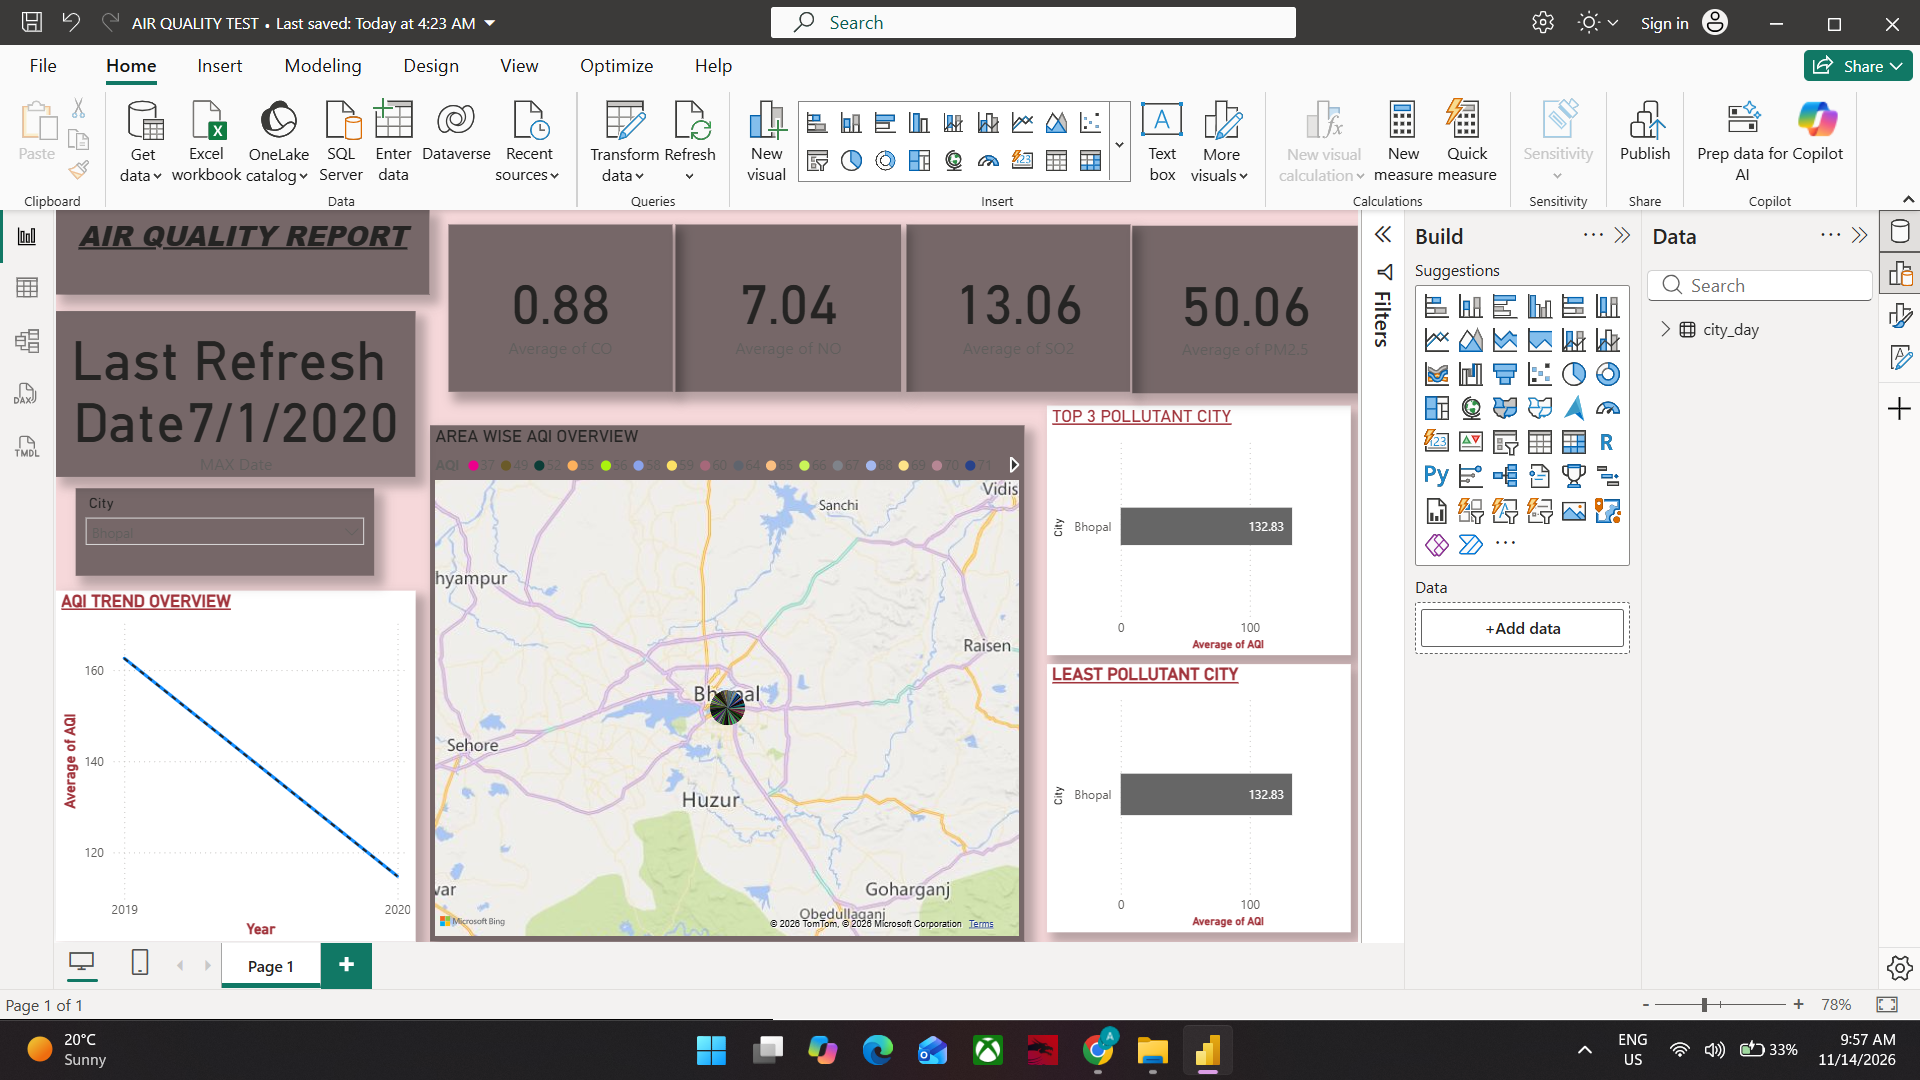

This screenshot's page, from the dashboard's own definition file:
{"tool":"powerbi","page":{"name":"Page 1","canvas":[1280,720],"ordinal":0},"visuals":[{"type":"lineChart","title":"AQI TREND OVERVIEW","fields":{"Category":["city_day.Date.Variation.Date Hierarchy.Year","city_day.Date.Variation.Date Hierarchy.Quarter","city_day.Date.Variation.Date Hierarchy.Month","city_day.Date.Variation.Date Hierarchy.Day"],"Y":["Avg(city_day.AQI)"]},"box":[0,373.8,353.4,345.5],"z":0},{"type":"slicer","fields":{"Values":["city_day.City"]},"box":[18.8,273.3,293.7,86.4],"z":1000},{"type":"barChart","title":"TOP 3 POLLUTANT CITY","fields":{"Category":["city_day.City"],"Y":["Avg(city_day.AQI)"]},"box":[973.7,191.6,298.4,245],"z":2000},{"type":"barChart","title":"LEAST POLLUTANT CITY","fields":{"Category":["city_day.City"],"Y":["Avg(city_day.AQI)"]},"box":[973.7,446,298.4,263.8],"z":3000},{"type":"card","fields":{"Values":["Avg(city_day.CO)"]},"box":[386.3,14.1,219.9,164.9],"z":4000},{"type":"card","fields":{"Values":["Avg(city_day.NO)"]},"box":[609.3,14.1,221.4,164.9],"z":5000},{"type":"card","fields":{"Values":["Avg(city_day.SO2)"]},"box":[835.5,14.1,219.9,164.9],"z":6000},{"type":"card","fields":{"Values":["Avg(city_day.PM2.5)"]},"box":[1058.5,15.7,221.4,164.9],"z":7000},{"type":"map","title":"AREA WISE AQI OVERVIEW","fields":{"Category":["city_day.City"],"Size":["Avg(city_day.AQI)"],"Series":["city_day.AQI"]},"box":[367.5,212,584.2,507.3],"z":8000},{"type":"textbox","box":[0,0,367.5,83.2],"z":9000},{"type":"card","fields":{"Values":["city_day.MAX Date"]},"box":[0,98.9,353.4,163.3],"z":10000}]}

Visuals, with their boxes on the page's 1280x720 design canvas (x1, y1, x2, y2). These are canvas units, not pixel positions in the 1920x1080 screenshot, which may show the page scaled, cropped or inside an application window:
"AQI TREND OVERVIEW" lineChart: <region>0, 374, 353, 719</region>
slicer - city_day.City: <region>19, 273, 312, 360</region>
"TOP 3 POLLUTANT CITY" barChart: <region>974, 192, 1272, 437</region>
"LEAST POLLUTANT CITY" barChart: <region>974, 446, 1272, 710</region>
card - Avg(city_day.CO): <region>386, 14, 606, 179</region>
card - Avg(city_day.NO): <region>609, 14, 831, 179</region>
card - Avg(city_day.SO2): <region>836, 14, 1055, 179</region>
card - Avg(city_day.PM2.5): <region>1058, 16, 1280, 181</region>
"AREA WISE AQI OVERVIEW" map: <region>368, 212, 952, 719</region>
textbox: <region>0, 0, 368, 83</region>
card - city_day.MAX Date: <region>0, 99, 353, 262</region>
